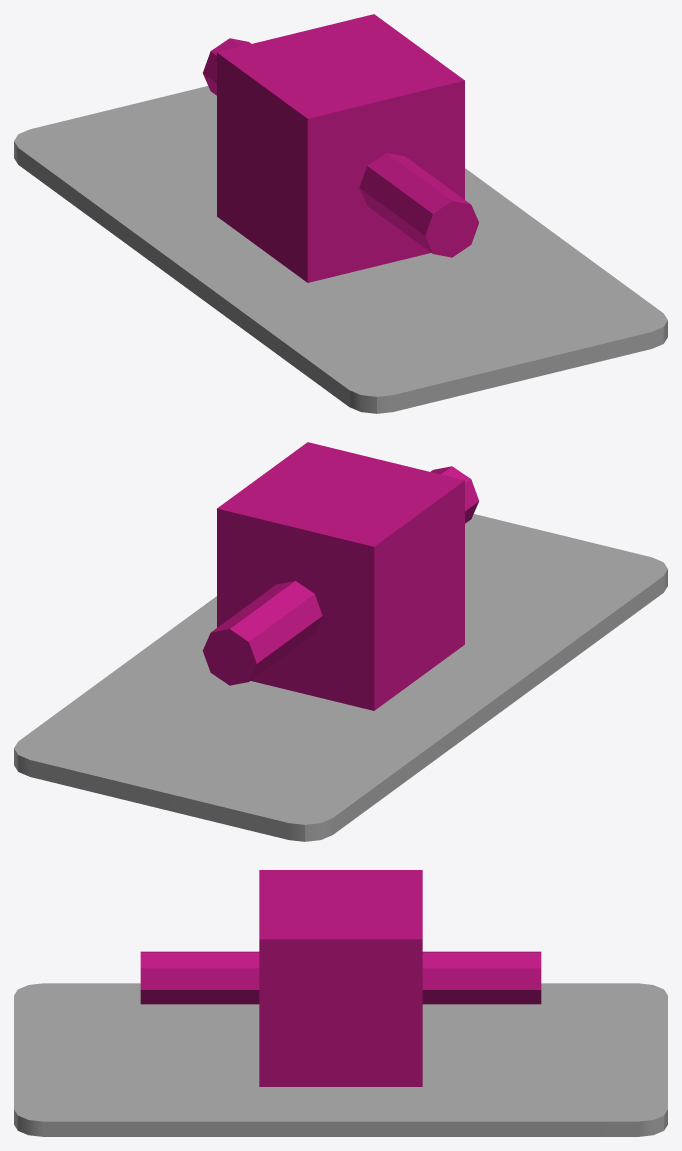
The model's file is test_obj_cannon-Z_v01.fbx.
3 views of the same model, one above another, from view 1: azimuth 30°, elevation 25°; view 2: azimuth 150°, elevation 25°; view 3: azimuth 270°, elevation 25° (orthographic). The views are drawn at different scales.
Parts seen in each view (by area): view 1: obj_cannon_Z; view 2: obj_cannon_Z; view 3: obj_cannon_Z.
Boxes of the visible parts, left/top/right/bottom form: obj_cannon_Z: left=14, top=14, right=667, bottom=413; obj_cannon_Z: left=14, top=442, right=667, bottom=841; obj_cannon_Z: left=14, top=870, right=667, bottom=1136.
Bounding box in the file's own units: 1 × 0.5505 × 2.
